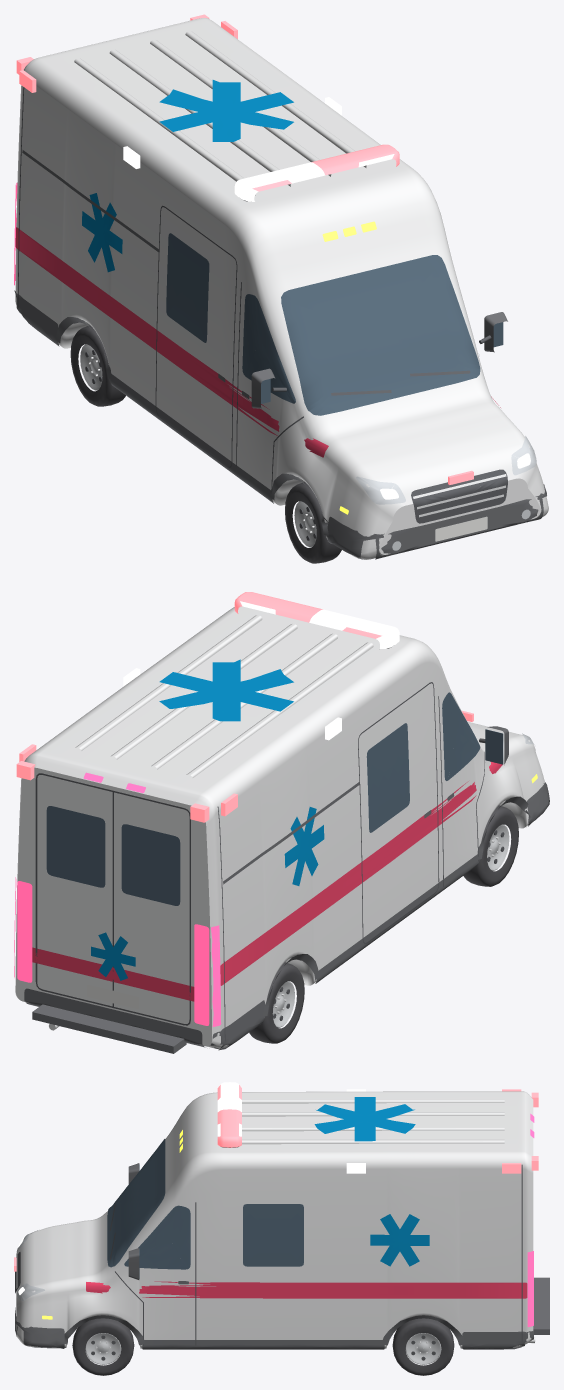
Rendered from van-ambulance.glb.
3 views of the same model, one above another, from view 1: azimuth 30°, elevation 25°; view 2: azimuth 150°, elevation 25°; view 3: azimuth 270°, elevation 25° (orthographic). The views are drawn at different scales.
Parts seen in each view (by area): view 1: van-ambulance; view 2: van-ambulance; view 3: van-ambulance.
Boxes of the visible parts, left/top/right/bottom form: van-ambulance: left=14, top=14, right=548, bottom=563; van-ambulance: left=14, top=592, right=549, bottom=1053; van-ambulance: left=14, top=1082, right=549, bottom=1375.
Size of the model in its own units: 2.5 by 2.94 by 6.14.
